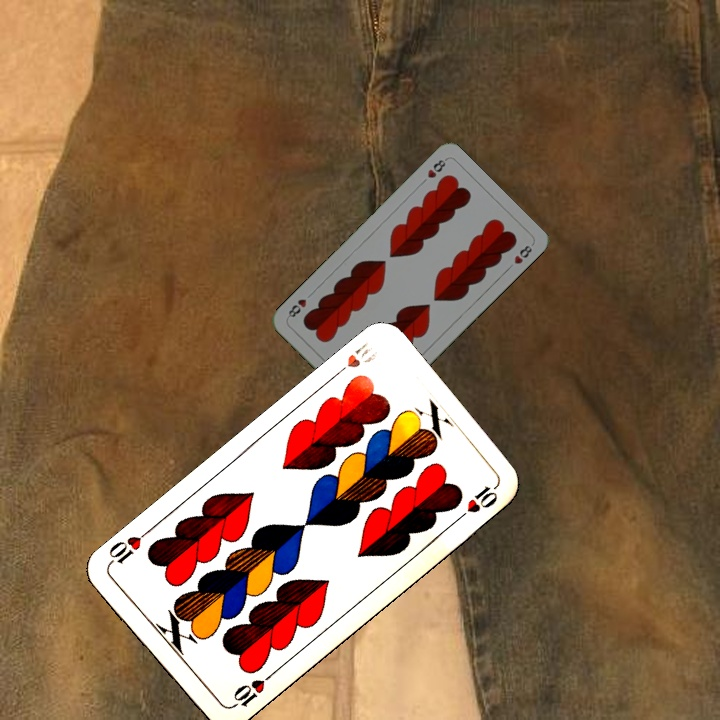H10: (225, 669, 275, 712), (329, 338, 371, 381)
H8: (423, 155, 449, 180)
